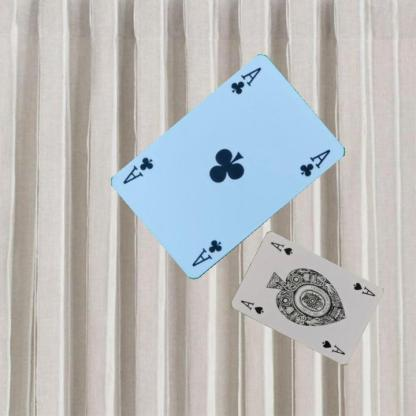Ac: (228, 64, 263, 96), (189, 237, 224, 268)
As: (237, 298, 264, 316), (350, 280, 376, 298)
